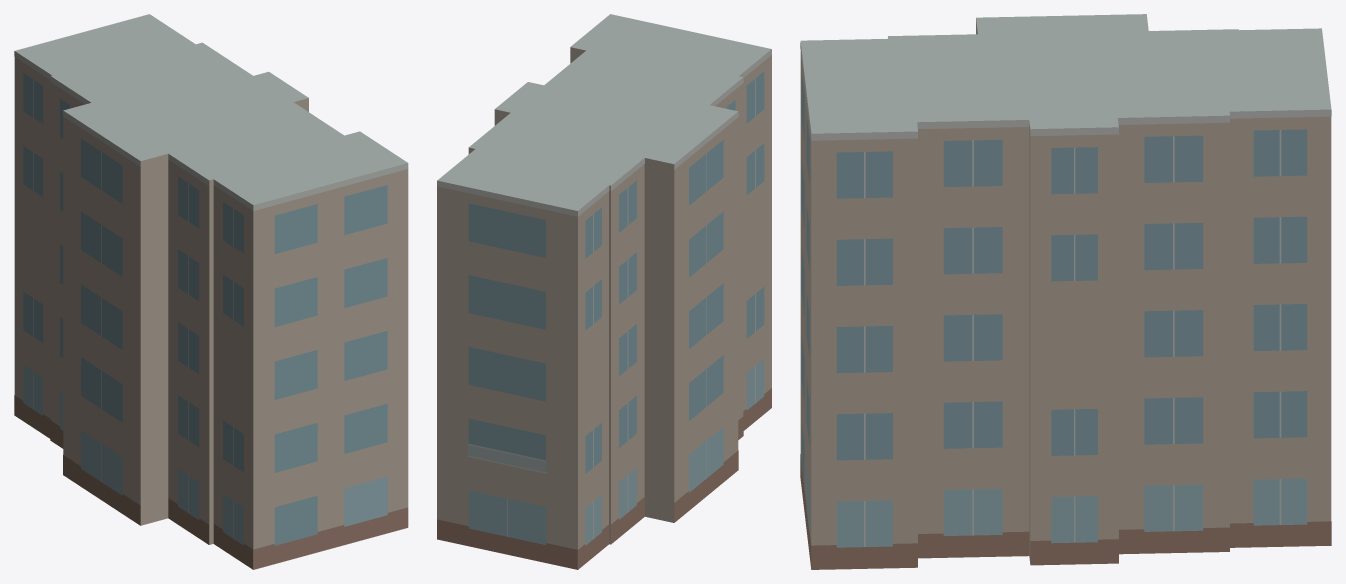
The model's file is survey-upis-32961914.glb.
3 views of the same model, side by side, from view 1: azimuth 30°, elevation 25°; view 2: azimuth 150°, elevation 25°; view 3: azimuth 270°, elevation 25° (orthographic). The views are drawn at different scales.
Visible parts, largest first — view 1: survey-upis-32961914.tmp; view 2: survey-upis-32961914.tmp; view 3: survey-upis-32961914.tmp.
Part boxes in pixels (box(x1,y1,x2,y2)): survey-upis-32961914.tmp: box(14, 14, 408, 569); survey-upis-32961914.tmp: box(437, 14, 771, 569); survey-upis-32961914.tmp: box(800, 14, 1331, 569).
Bounding box in the file's own units: 8.99 × 15.25 × 16.84.
